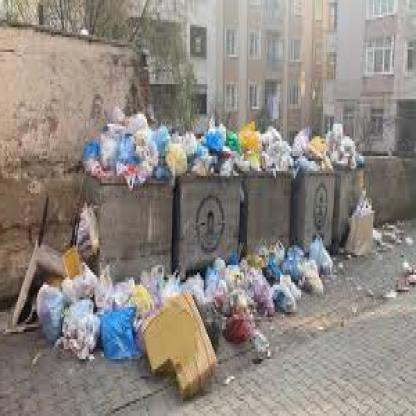Garbage: (216, 253, 307, 339), (37, 290, 134, 354), (89, 119, 182, 176), (183, 124, 262, 174), (63, 206, 96, 292), (94, 274, 170, 304), (265, 126, 322, 166), (345, 198, 373, 258), (323, 124, 359, 166), (305, 233, 327, 287), (181, 272, 214, 294)
